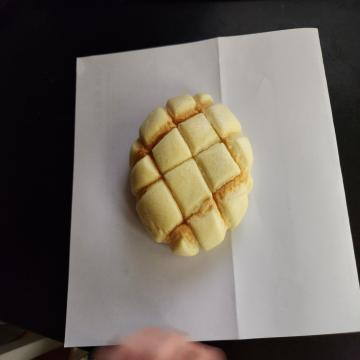melon_bread: (127, 93, 252, 259)
